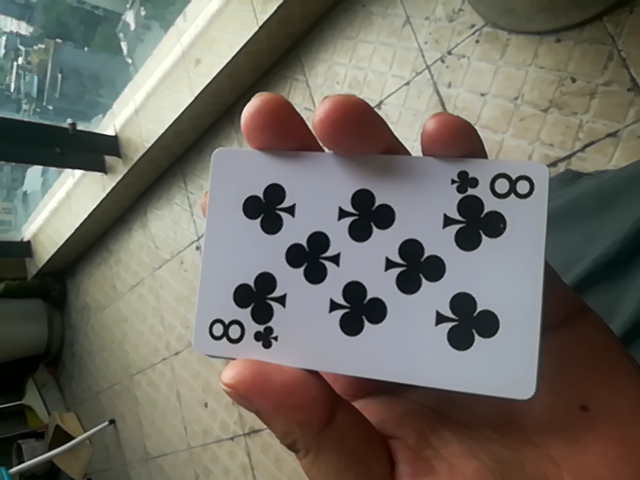mh 8: (177, 142, 554, 400)
